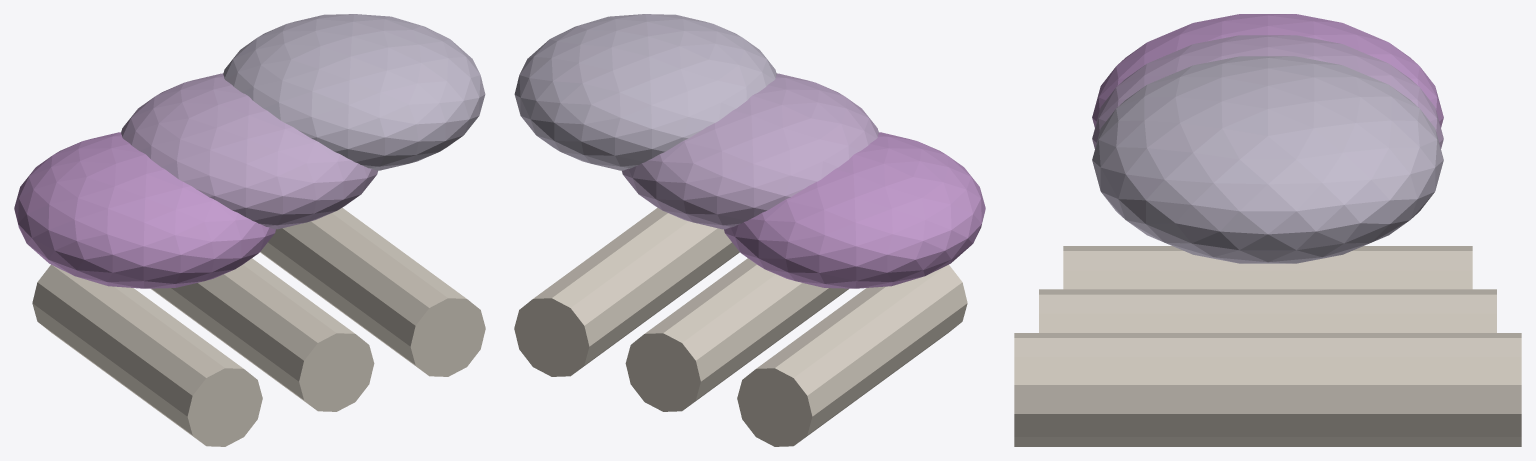
The model's file is world_07.glb.
3 renders of one model, left to right at view 1: azimuth 30°, elevation 25°; view 2: azimuth 150°, elevation 25°; view 3: azimuth 270°, elevation 25°, orthographic. The views are drawn at different scales.
Parts seen in each view (by area): view 1: mushroom-cap_2, mushroom-cap, mushroom-cap_1, mushroom-stem, mushroom-stem_2, mushroom-stem_1; view 2: mushroom-cap_2, mushroom-cap, mushroom-cap_1, mushroom-stem, mushroom-stem_2, mushroom-stem_1; view 3: mushroom-stem_2, mushroom-cap_2, mushroom-stem_1, mushroom-stem, mushroom-cap, mushroom-cap_1.
Boxes of the visible parts, x1,y1,x2,y2 form: mushroom-cap_2: (223, 14, 485, 170); mushroom-cap: (14, 132, 275, 288); mushroom-cap_1: (121, 73, 377, 229); mushroom-stem: (32, 264, 262, 446); mushroom-stem_2: (260, 207, 485, 376); mushroom-stem_1: (151, 258, 374, 411); mushroom-cap_2: (514, 14, 776, 170); mushroom-cap: (724, 132, 985, 288); mushroom-cap_1: (622, 73, 878, 229); mushroom-stem: (737, 264, 967, 446); mushroom-stem_2: (514, 207, 739, 376); mushroom-stem_1: (625, 258, 848, 411); mushroom-stem_2: (1014, 333, 1521, 446); mushroom-cap_2: (1092, 56, 1443, 263); mushroom-stem_1: (1039, 289, 1496, 332); mushroom-stem: (1063, 246, 1472, 289); mushroom-cap: (1092, 14, 1443, 127); mushroom-cap_1: (1092, 35, 1443, 148).
Size of the model in its own units: 1.62 by 1.08 by 1.24.
